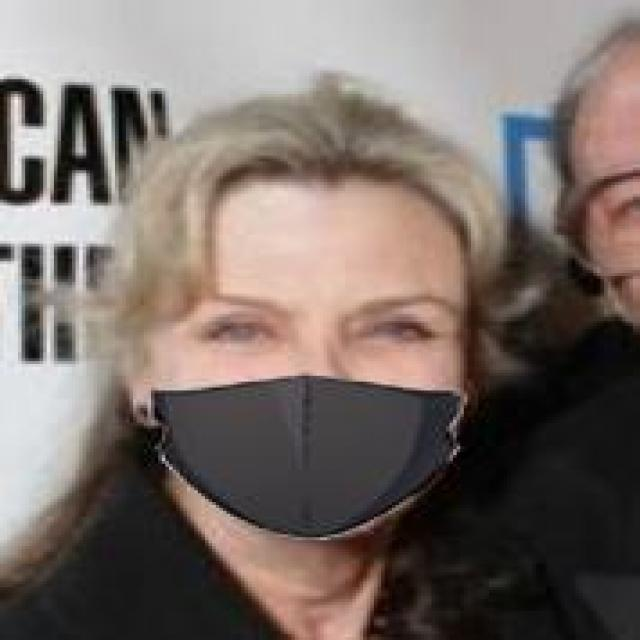mask: (111, 82, 536, 558)
